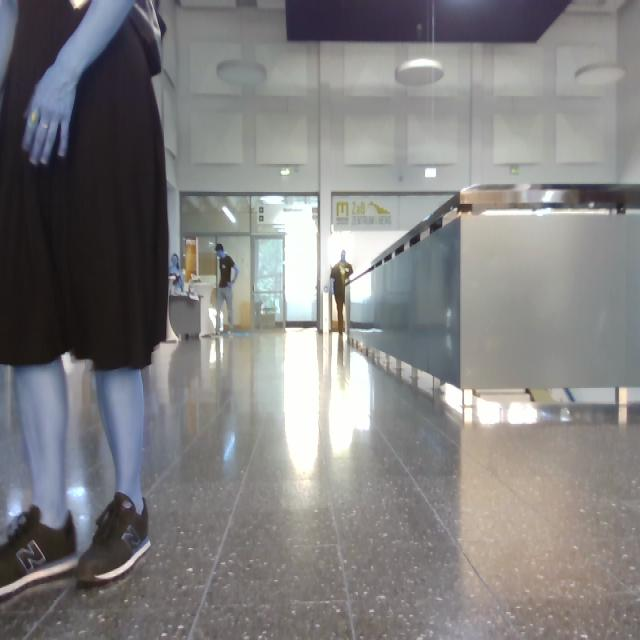door: (254, 238, 286, 329)
light bulb: (396, 59, 445, 86), (217, 61, 267, 85), (576, 64, 626, 86), (509, 403, 539, 424), (222, 208, 237, 224), (70, 2, 91, 11)
person: (1, 1, 169, 599), (217, 244, 240, 334), (331, 251, 354, 335)
staircase: (350, 188, 640, 390)
tiled floor: (1, 331, 640, 639)
